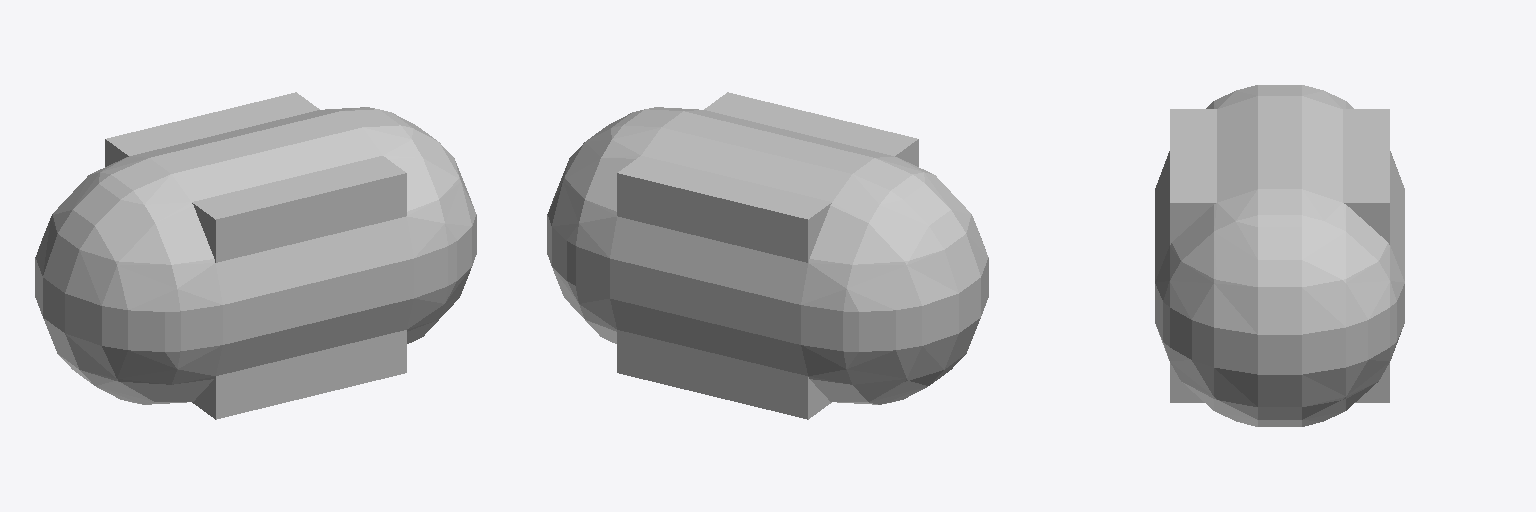
3 renders of one model, left to right at view 1: azimuth 30°, elevation 25°; view 2: azimuth 150°, elevation 25°; view 3: azimuth 270°, elevation 25°, orthographic.
Visible parts, largest first — view 1: 融球, Cube; view 2: 融球, Cube; view 3: 融球, Cube.
Part boxes in pixels (bbox=[...]): 融球: bbox=[35, 107, 476, 404]; Cube: bbox=[105, 92, 406, 419]; 融球: bbox=[547, 107, 988, 404]; Cube: bbox=[617, 92, 918, 419]; 融球: bbox=[1155, 85, 1404, 426]; Cube: bbox=[1170, 109, 1389, 402].
Size of the model in its own units: 4.23 by 2.27 by 2.27.